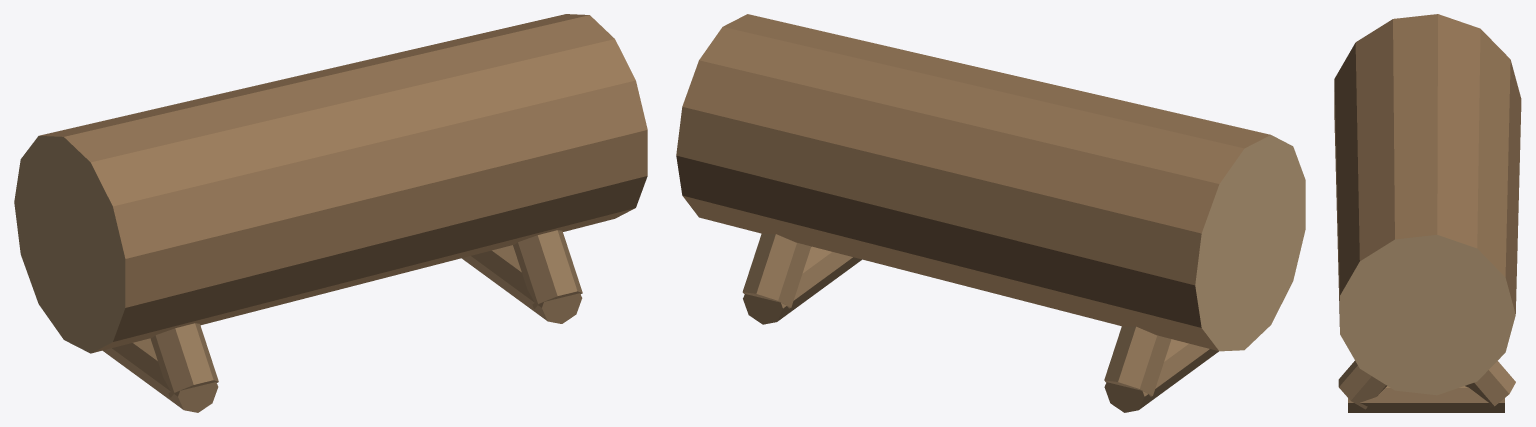
File: fixture_sit_log.glb
The picture shows the model from 3 angles, left to right: view 1: azimuth 30°, elevation 25°; view 2: azimuth 150°, elevation 25°; view 3: azimuth 270°, elevation 25°; orthographic projection. The views are drawn at different scales.
Parts seen in each view (by area): view 1: Action setting; view 2: Action setting; view 3: Action setting.
Boxes of the visible parts, x1,y1,x2,y2 form: Action setting: (14, 14, 647, 412); Action setting: (676, 14, 1305, 412); Action setting: (1334, 14, 1521, 412).
Bounding box in the file's own units: 0.78 × 0.3639 × 0.2858.
